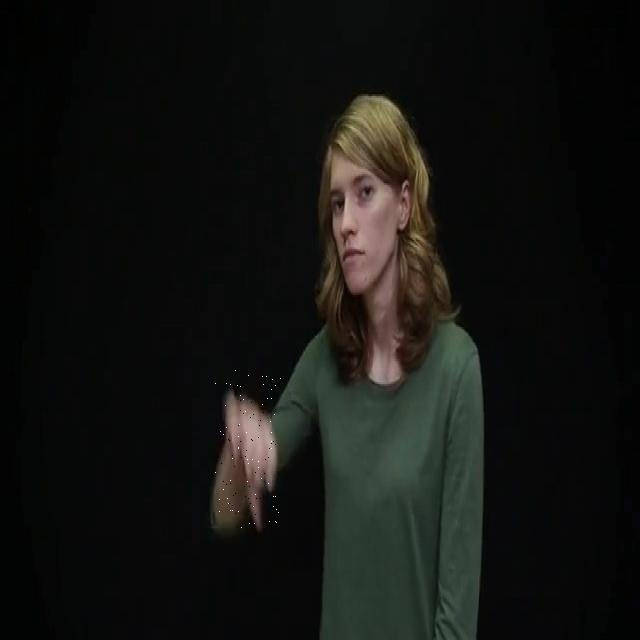pepper: (215, 370, 281, 528)
